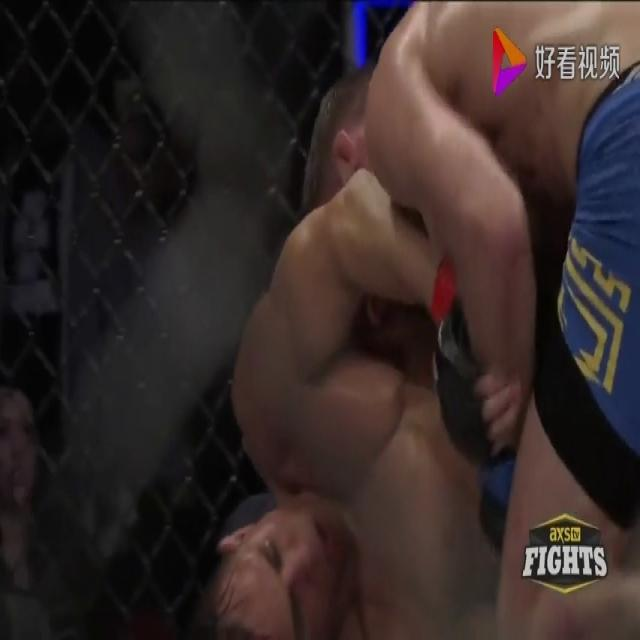fight: (117, 0, 639, 639)
